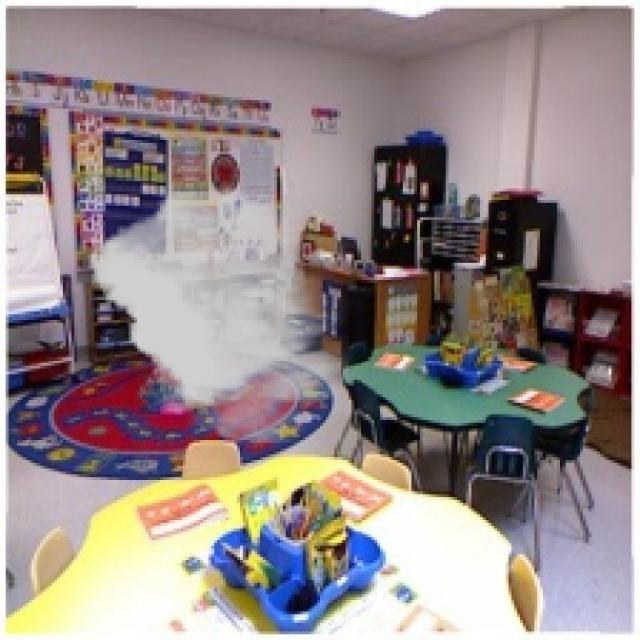Smoke: (92, 186, 348, 443)
